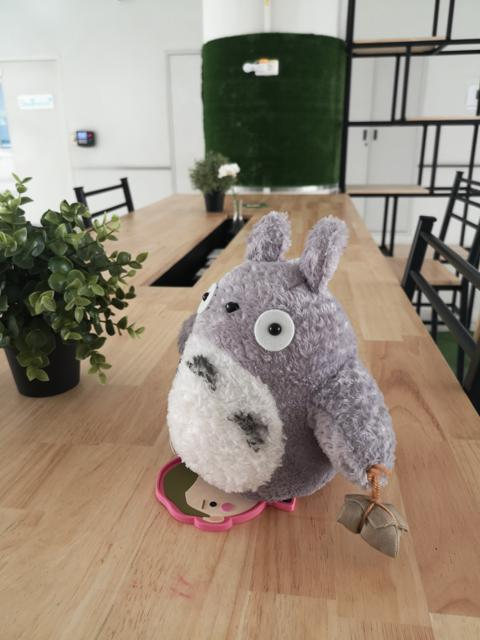totoro: (163, 206, 409, 568)
